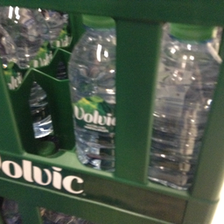water: (147, 22, 223, 191), (65, 13, 117, 173)
